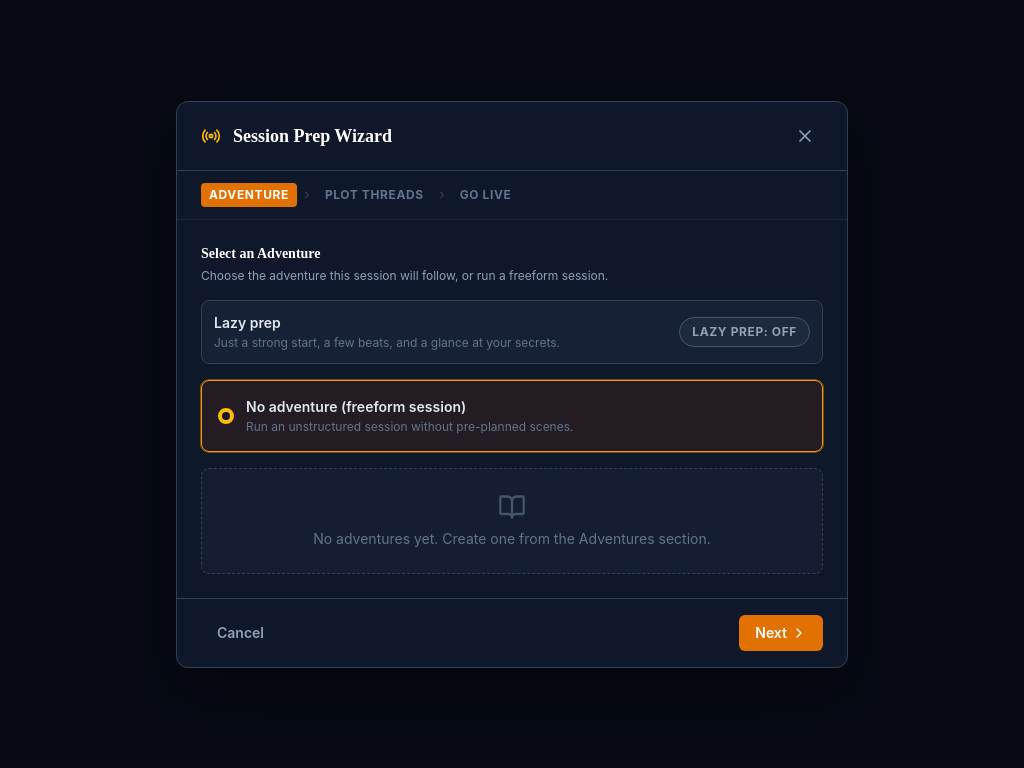
Test case: "Drop into action" calls generateStrongStart, never generateColdOpen › fills the strong-start field with style "action" and no dormant piece
This screenshot has width=1024, height=768.
Click the button "Lazy prep: off": (745,332) [679,316,810,346]
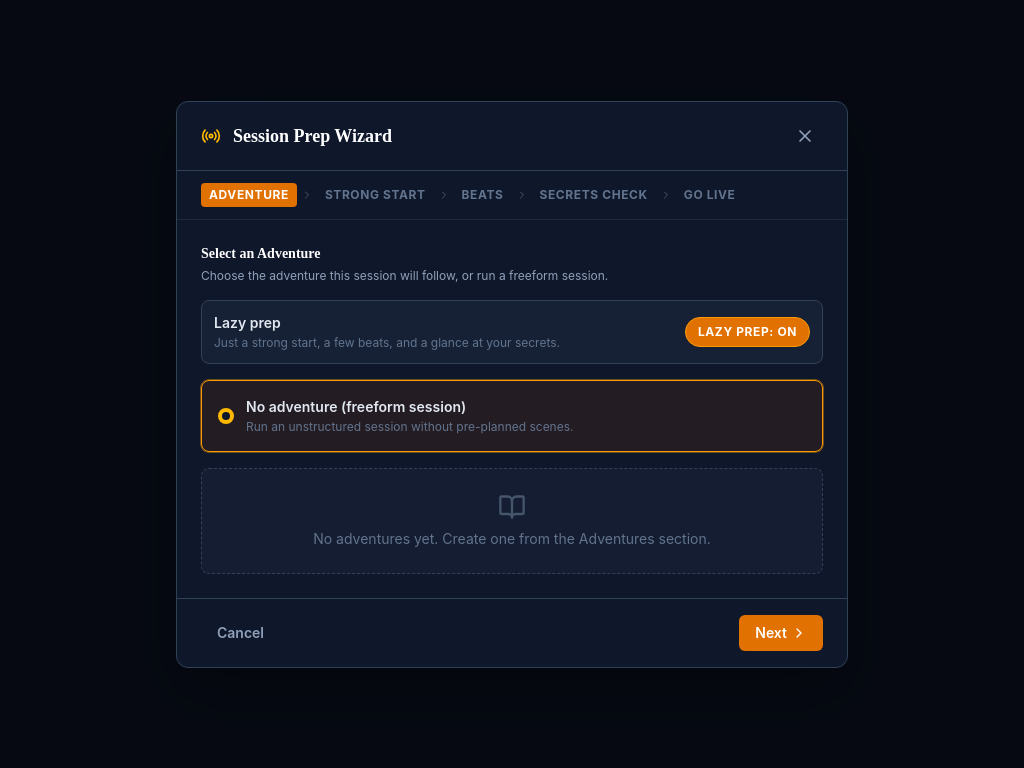
Click the button "Strong Start": (375,194) [317,182,434,206]
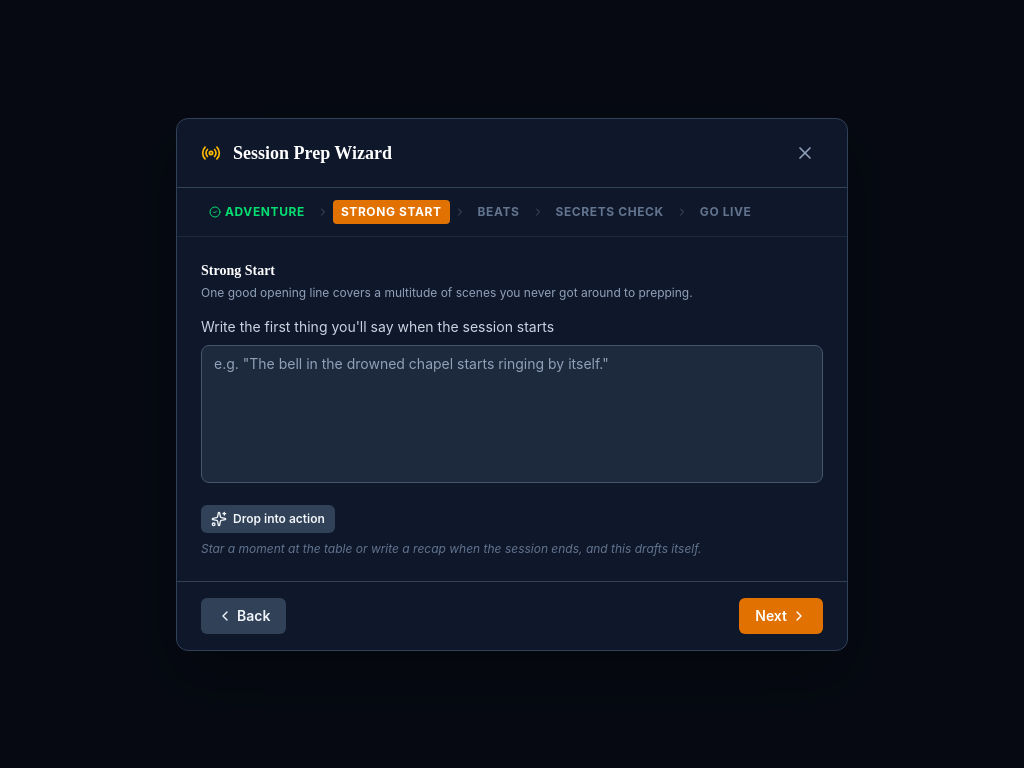
Click the button "Drop into action": (268,518) [201,504,335,532]
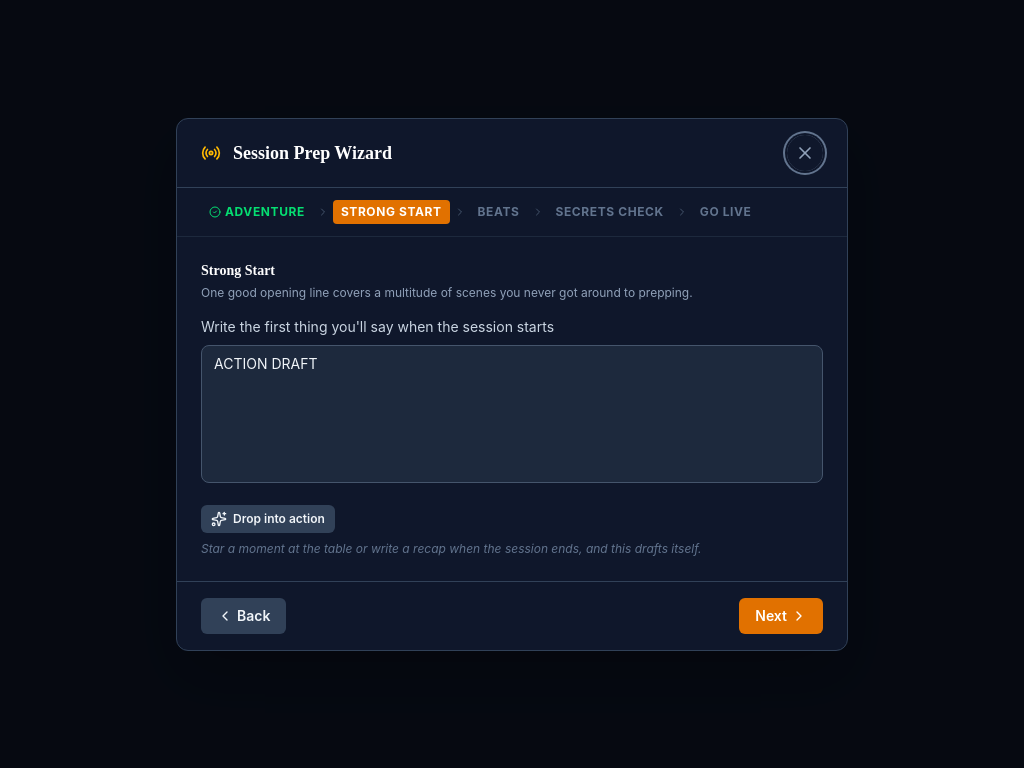
Result: the text box labelled "Write the first thing you'll say when the session starts" holds "ACTION DRAFT" at [201,344,823,482]
